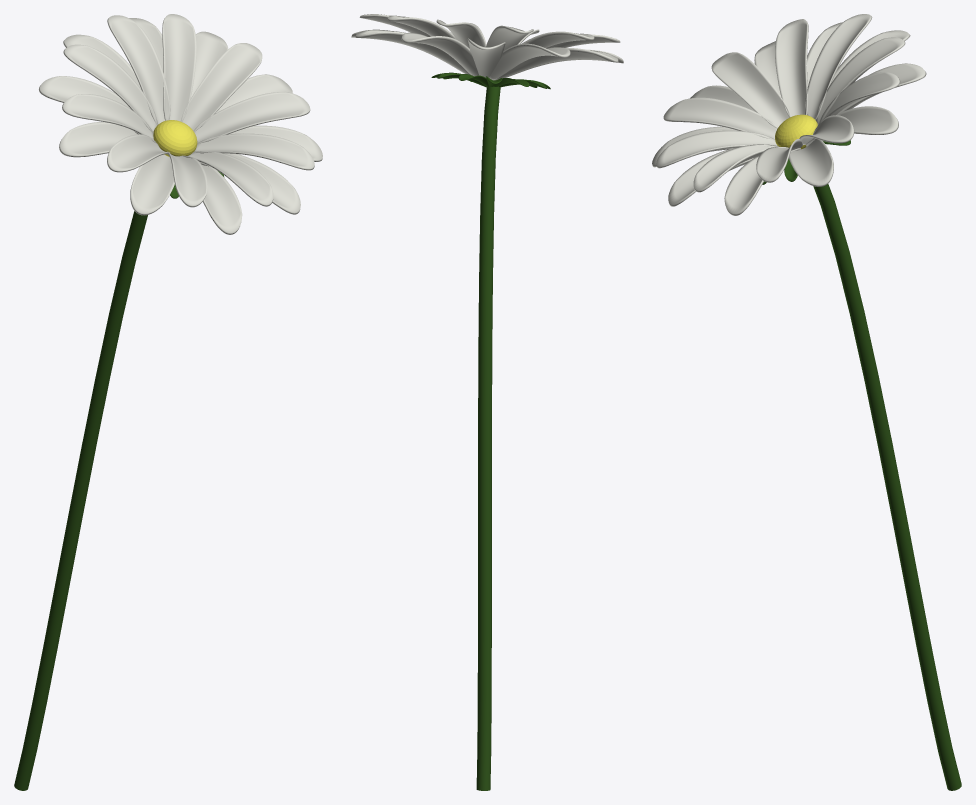
The model's file is White.glb.
3 views of the same model, side by side, from view 1: azimuth 30°, elevation 25°; view 2: azimuth 150°, elevation 25°; view 3: azimuth 270°, elevation 25° (orthographic). The views are drawn at different scales.
Visible parts, largest first — view 1: BézierCurve.001; view 2: BézierCurve.001; view 3: BézierCurve.001.
Boxes of the visible parts, x1=… form: BézierCurve.001: x1=14, y1=14, x2=322, y2=790; BézierCurve.001: x1=351, y1=14, x2=623, y2=790; BézierCurve.001: x1=652, y1=14, x2=961, y2=790.
Size of the model in its own units: 0.0551 by 0.1603 by 0.0577.
